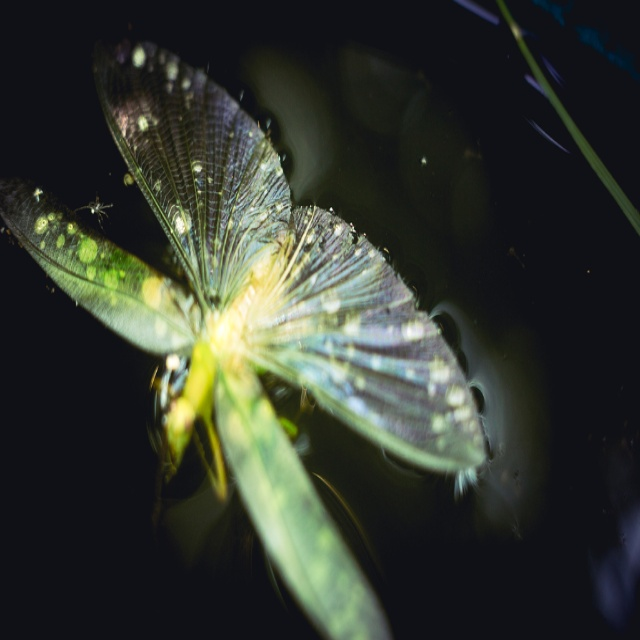Butterfly: (56, 50, 518, 601)
